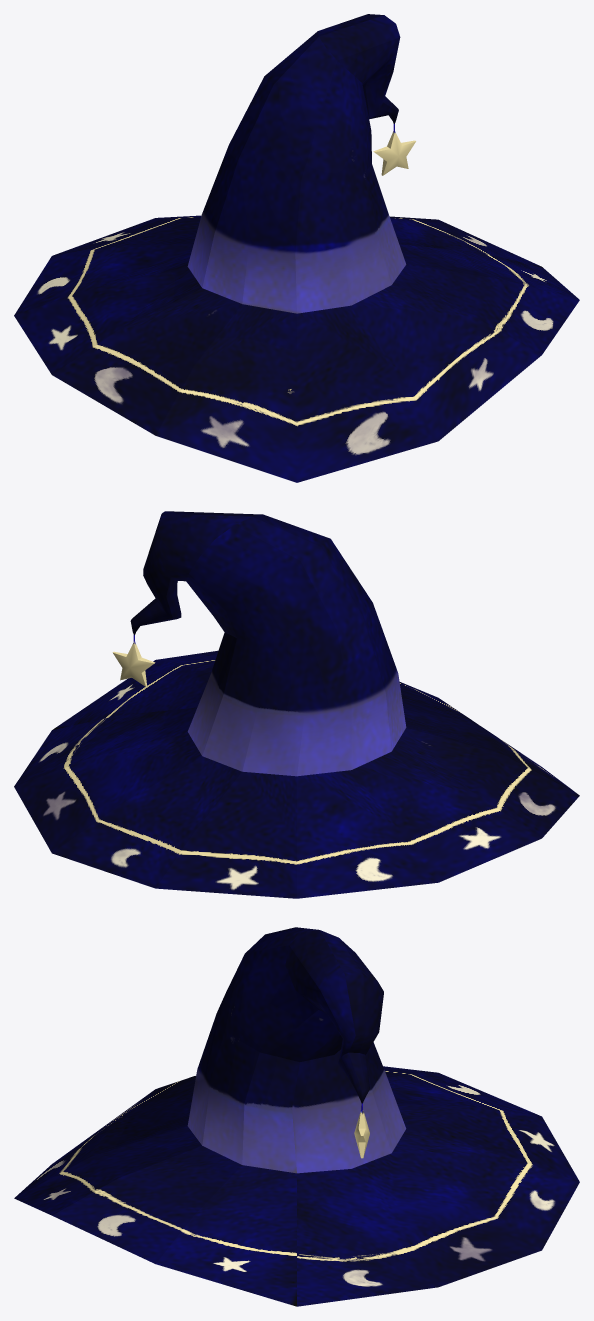
Rendered from WizardHat.fbx.
3 views of the same model, one above another, from view 1: azimuth 30°, elevation 25°; view 2: azimuth 150°, elevation 25°; view 3: azimuth 270°, elevation 25° (orthographic).
Visible parts, largest first — view 1: pCylinder4; view 2: pCylinder4; view 3: pCylinder4.
Part boxes in pixels (x1,y1,x2,y2): pCylinder4: [14, 14, 579, 482]; pCylinder4: [14, 511, 579, 898]; pCylinder4: [14, 927, 579, 1306].
Size of the model in its own units: 6.94 by 4.2 by 6.94.
